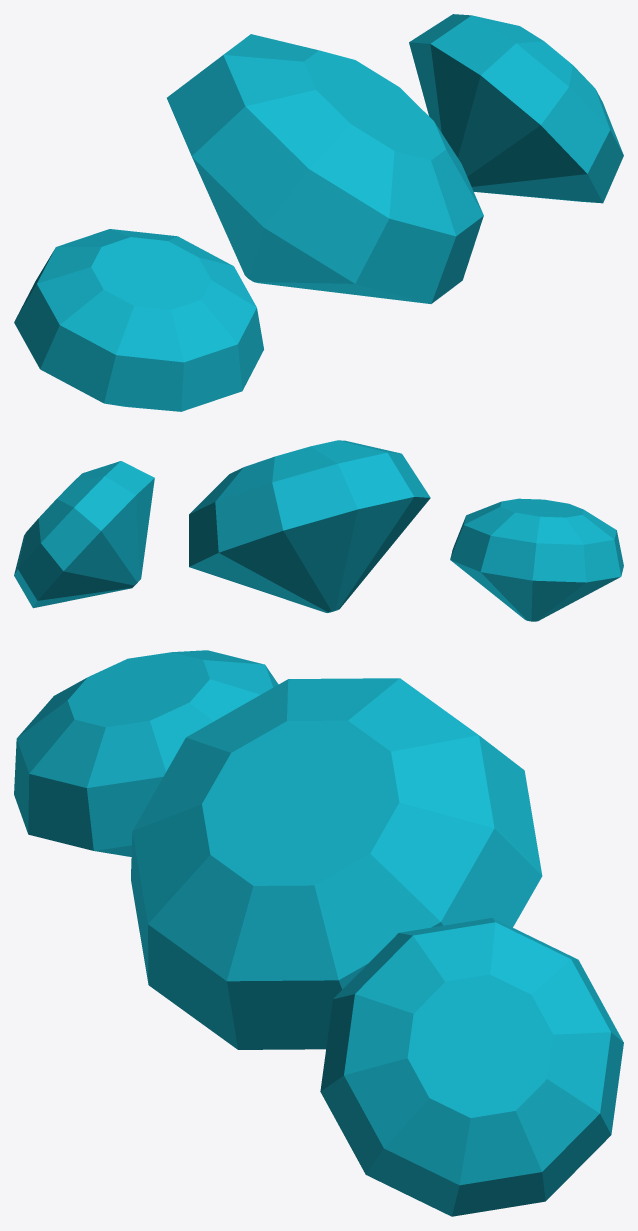
3 views of the same model, one above another, from view 1: azimuth 30°, elevation 25°; view 2: azimuth 150°, elevation 25°; view 3: azimuth 270°, elevation 25° (orthographic). The views are drawn at different scales.
Parts seen in each view (by area): view 1: TI035 / individually faceted stone 1, TI035 / individually faceted stone 0, TI035 / individually faceted stone 2; view 2: TI035 / individually faceted stone 1, TI035 / individually faceted stone 0, TI035 / individually faceted stone 2; view 3: TI035 / individually faceted stone 1, TI035 / individually faceted stone 2, TI035 / individually faceted stone 0.
Part boxes in pixels (box(x1,y1,x2,y2)): TI035 / individually faceted stone 1: box(167, 34, 483, 303); TI035 / individually faceted stone 0: box(14, 229, 263, 411); TI035 / individually faceted stone 2: box(409, 14, 623, 203); TI035 / individually faceted stone 1: box(189, 440, 430, 612); TI035 / individually faceted stone 0: box(450, 498, 623, 621); TI035 / individually faceted stone 2: box(14, 461, 154, 608); TI035 / individually faceted stone 1: box(131, 678, 542, 1049); TI035 / individually faceted stone 2: box(320, 918, 623, 1216); TI035 / individually faceted stone 0: box(14, 650, 278, 856).
Size of the model in its own units: 2.54 by 0.8889 by 1.57.
